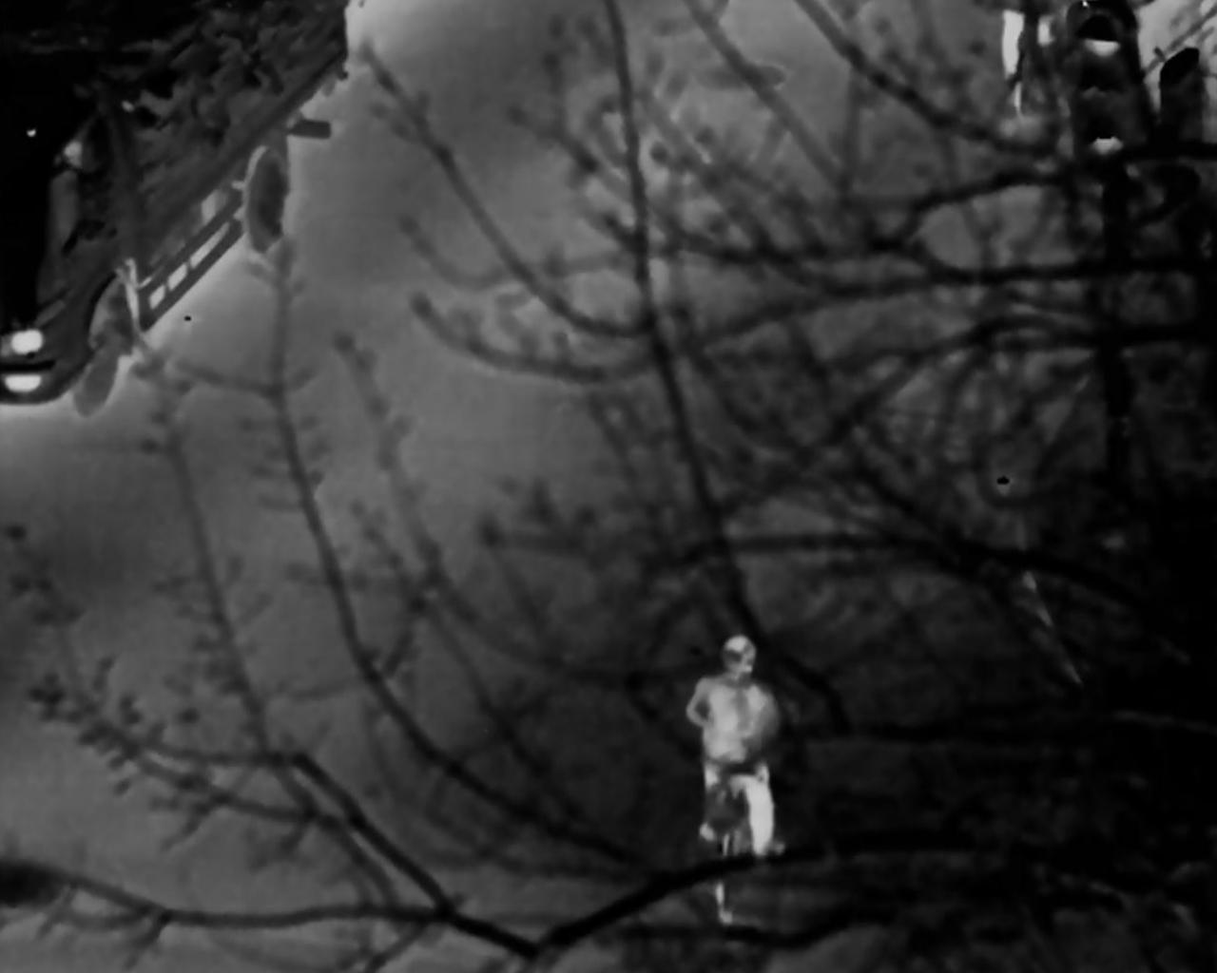person: (688, 629, 778, 887)
